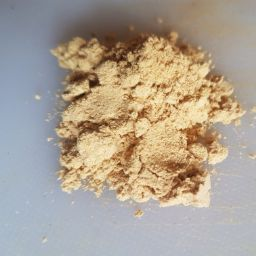Ginger powder: (19, 13, 256, 233), (35, 85, 213, 208), (99, 57, 219, 166)
